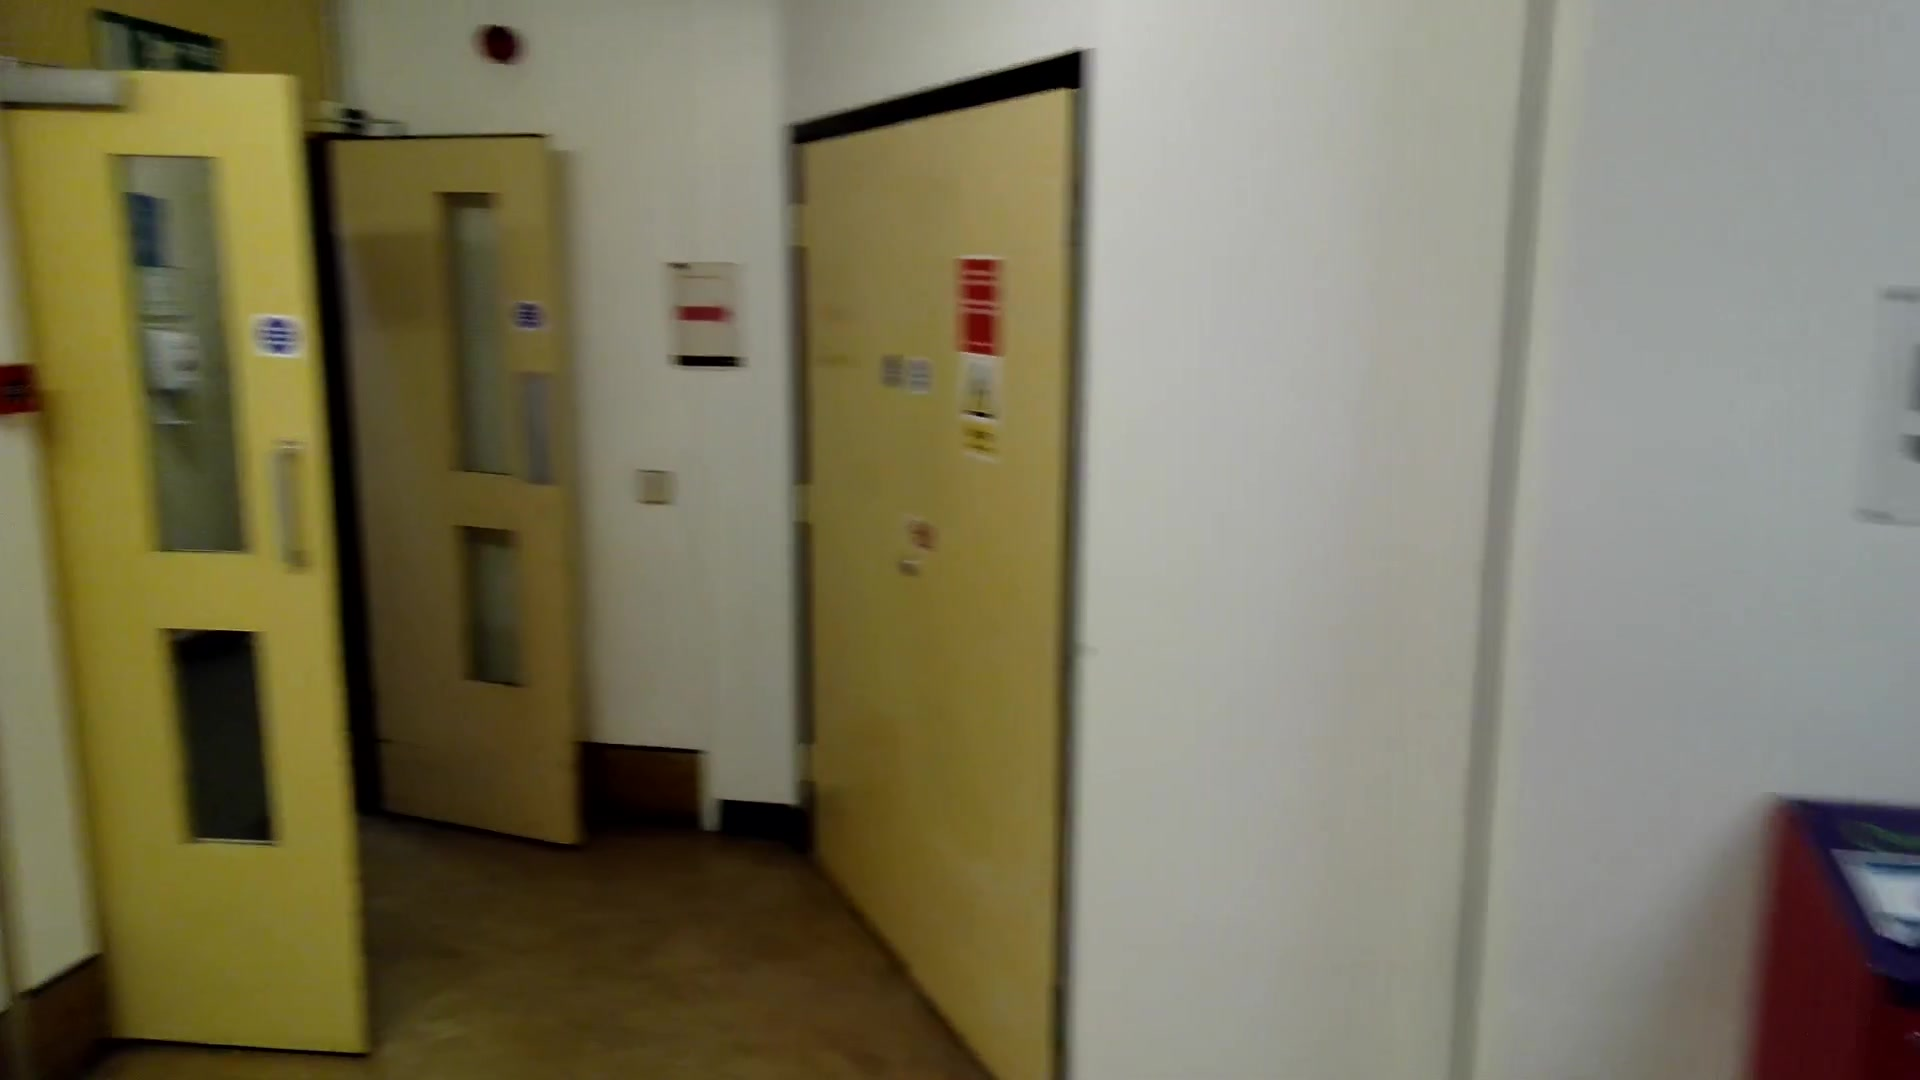Door: (13, 59, 385, 1062), (380, 119, 589, 855)
